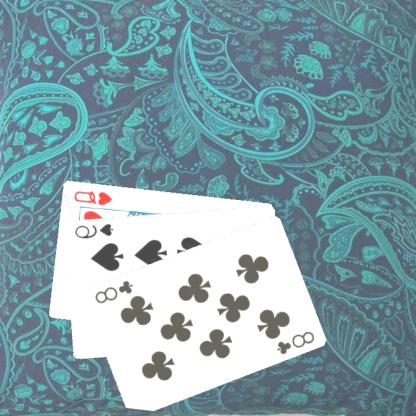8C: (275, 328, 318, 356), (93, 278, 136, 305)
9S: (73, 220, 117, 240)
QH: (73, 187, 115, 207)
